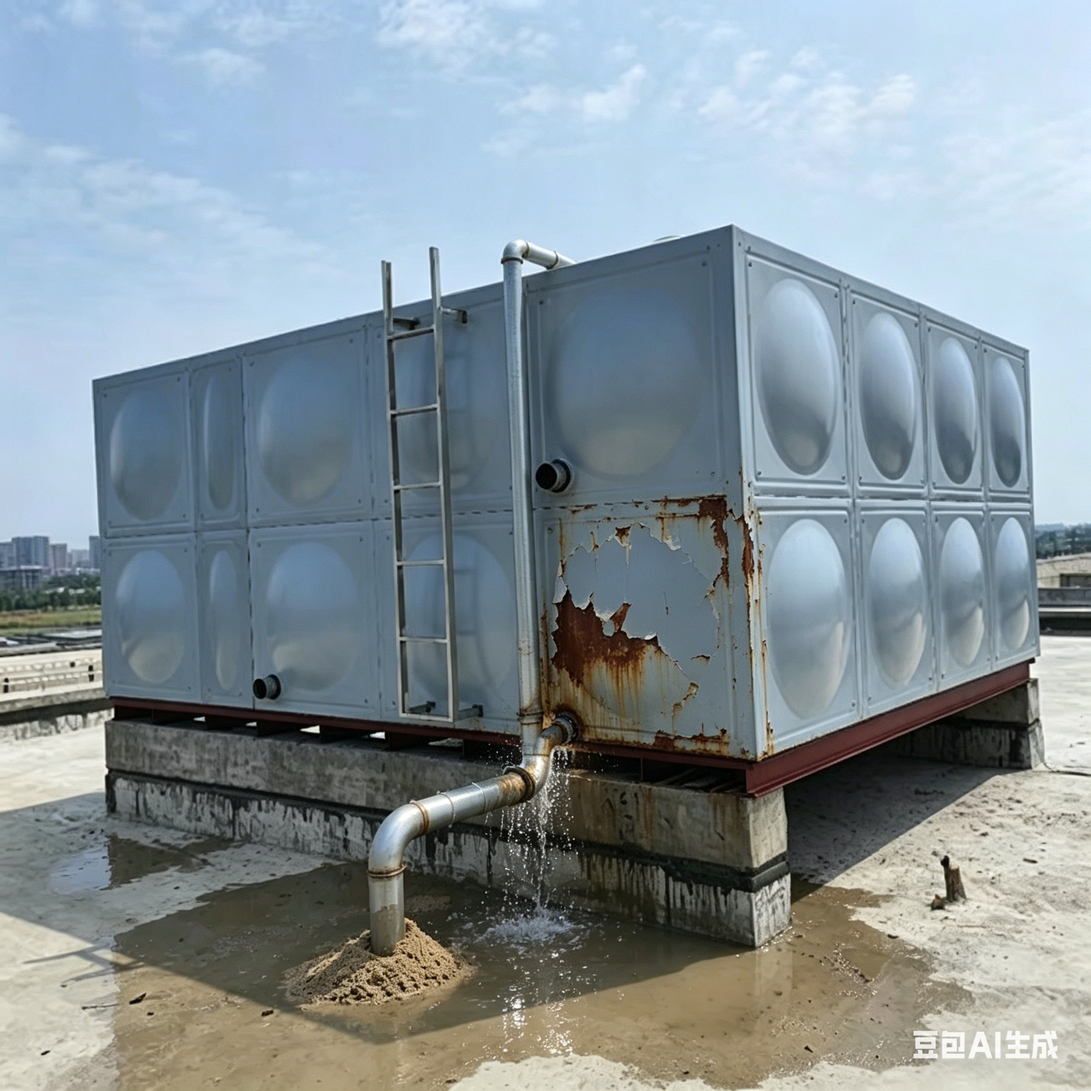Leakage: (146, 919, 473, 1091), (485, 686, 624, 1065), (642, 915, 943, 1077), (253, 868, 481, 919), (48, 832, 217, 894)
